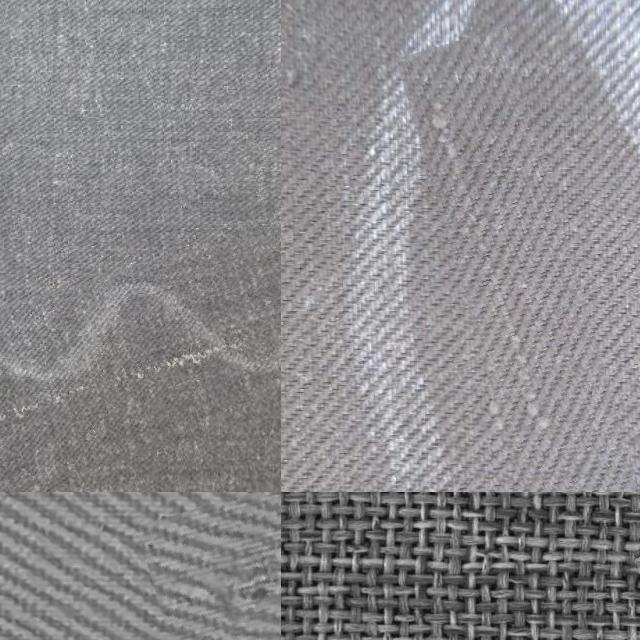other: (146, 492, 281, 640)
stains: (428, 29, 606, 492), (0, 220, 281, 485)
